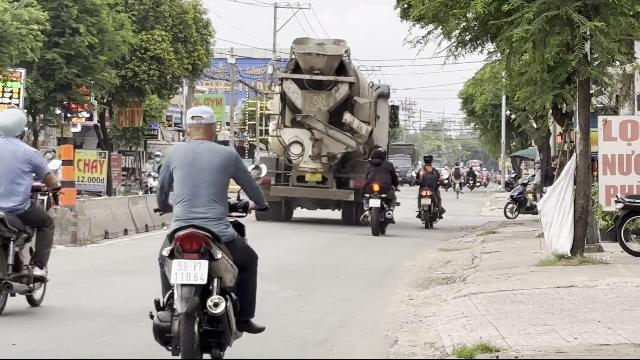helmet: (0, 108, 28, 140)
licenseplate: (171, 260, 207, 282)
motorcyclist: (146, 102, 270, 356), (0, 106, 60, 320)
nohelmet: (182, 105, 220, 142)
